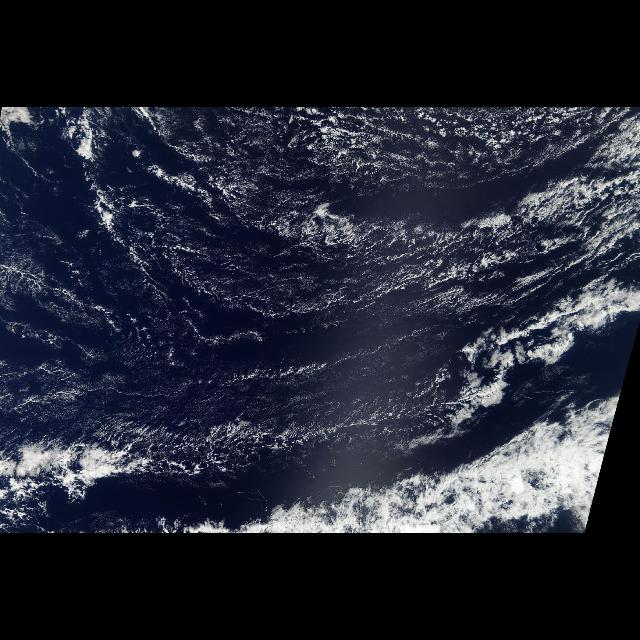Sugar: (0, 107, 462, 439)
